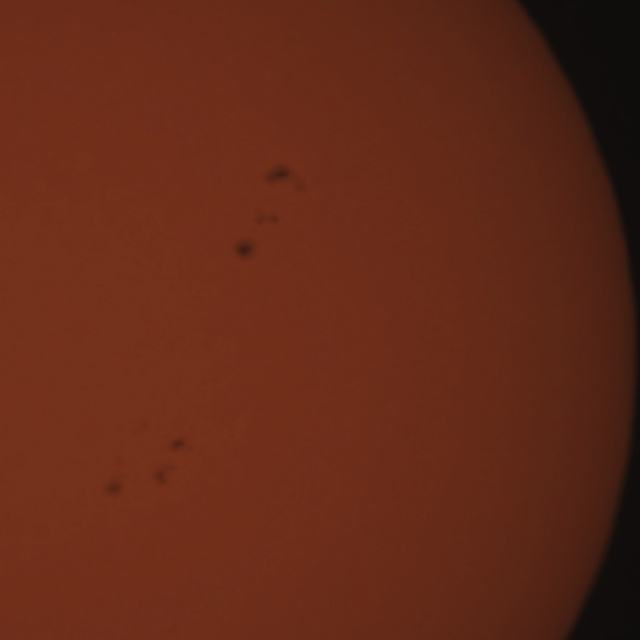sunspot: (100, 469, 136, 500), (263, 163, 295, 188), (152, 464, 178, 489), (232, 238, 255, 264), (252, 211, 281, 229), (168, 436, 191, 457)
